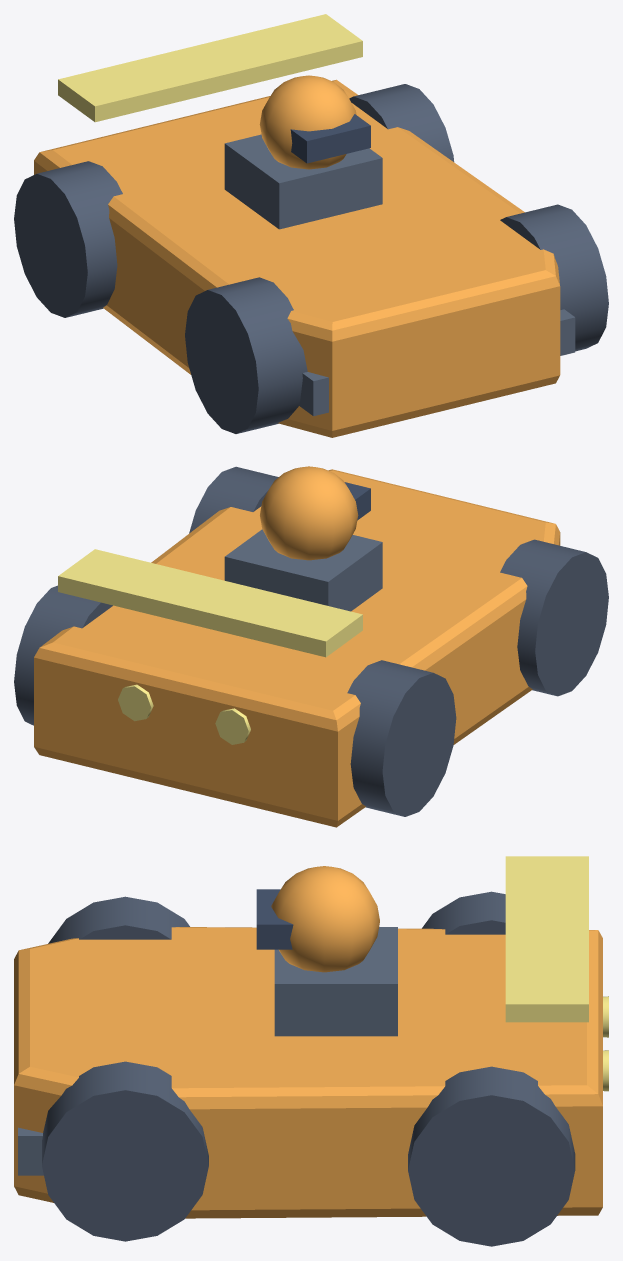
File: titan.glb
3 views of the same model, one above another, from view 1: azimuth 30°, elevation 25°; view 2: azimuth 150°, elevation 25°; view 3: azimuth 270°, elevation 25° (orthographic). The views are drawn at different scales.
Parts seen in each view (by area): view 1: KartBody, KartWheel_FL, KartAccent_Wing, KartWheel_RL, KartSeat, KartWheel_FR, KartHelmet, KartWheel_RR, KartVisor, KartBumper; view 2: KartBody, KartAccent_Wing, KartWheel_RL, KartWheel_FL, KartSeat, KartHelmet, KartWheel_RR, KartWheel_FR, KartAccent_ExhaustL, KartAccent_ExhaustR, KartVisor; view 3: KartBody, KartWheel_RR, KartWheel_FR, KartAccent_Wing, KartSeat, KartHelmet, KartWheel_FL, KartWheel_RL, KartVisor, KartBumper.
Part boxes in pixels (box(x1,y1,x2,y2)): KartBody: box(34, 79, 560, 437); KartWheel_FL: box(185, 277, 307, 433); KartAccent_Wing: box(58, 14, 362, 122); KartWheel_RL: box(14, 161, 122, 317); KartSeat: box(224, 134, 382, 229); KartWheel_FR: box(500, 204, 608, 351); KartHelmet: box(259, 75, 356, 169); KartWheel_RR: box(349, 84, 454, 161); KartVisor: box(290, 114, 370, 163); KartBumper: box(298, 309, 575, 416); KartBody: box(34, 469, 560, 827); KartAccent_Wing: box(58, 549, 362, 657); KartWheel_RL: box(347, 660, 456, 816); KartWheel_FL: box(500, 539, 608, 696); KartSeat: box(224, 529, 382, 611); KartHelmet: box(260, 466, 358, 560); KartWheel_RR: box(14, 585, 112, 725); KartWheel_FR: box(189, 466, 278, 533); KartAccent_ExhaustL: box(215, 708, 250, 744); KartAccent_ExhaustR: box(118, 684, 153, 721); KartVisor: box(344, 482, 370, 520); KartBody: box(14, 927, 602, 1218); KartWheel_RR: box(408, 1066, 575, 1246); KartWheel_FR: box(42, 1061, 208, 1241); KartAccent_Wing: box(505, 856, 588, 1022); KartSeat: box(274, 927, 397, 1036); KartHelmet: box(271, 866, 379, 972); KartWheel_FL: box(48, 896, 189, 943); KartWheel_RL: box(422, 891, 505, 934); KartVisor: box(256, 889, 293, 949); KartBumper: box(18, 1127, 43, 1175).
Bounding box in the file's own units: 2.42 × 1.52 × 2.99.
